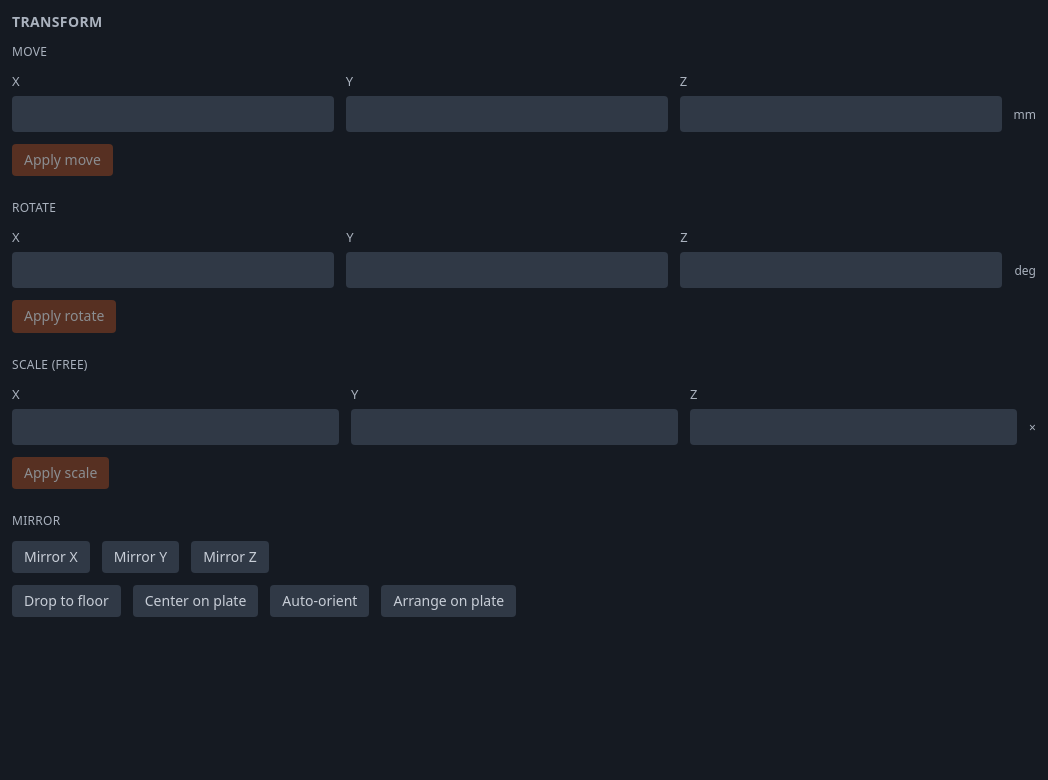
TransformSection - auto-orient › shows the too-large note when the search was skipped
Click the button "Auto-orient": click(320, 601) [270,585,369,618]
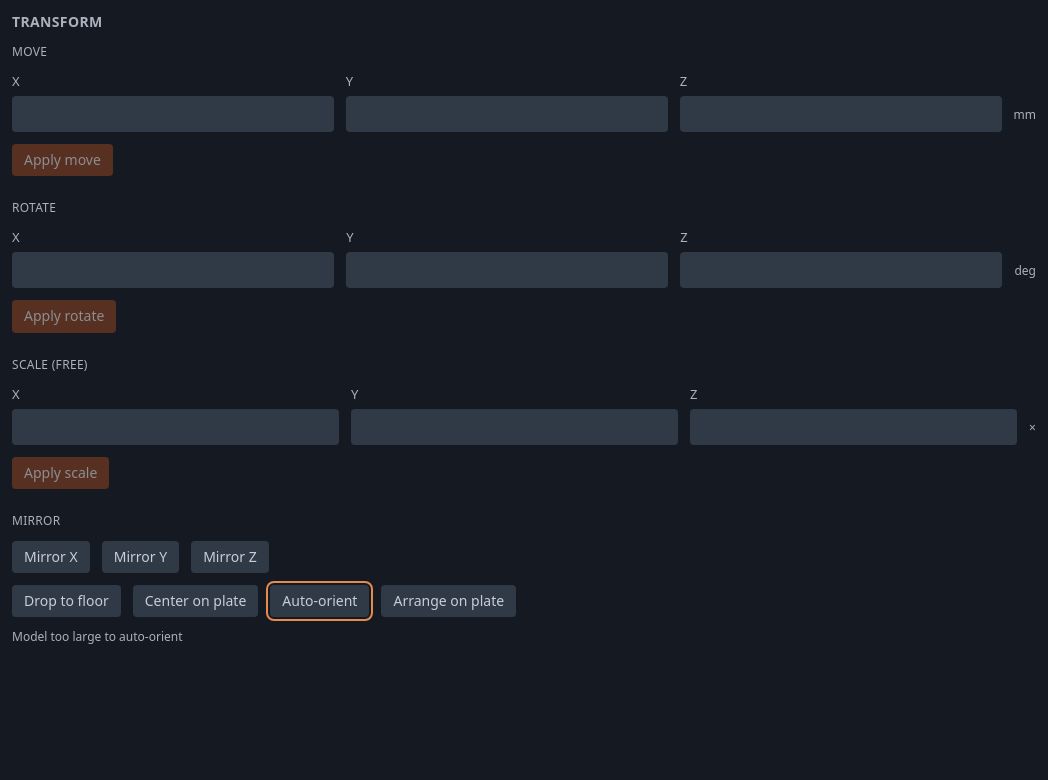
Expected: the text "Model too large to auto-orient" is shown, [12,628,183,646]
